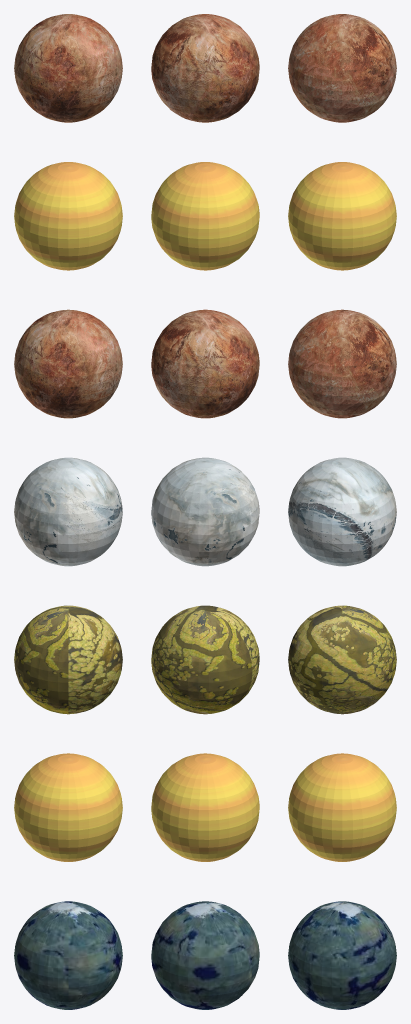
The model's file is alltogether.glb.
The picture shows the model from 3 angles, left to right: view 1: azimuth 90°, elevation 25°; view 2: azimuth 150°, elevation 25°; view 3: azimuth 270°, elevation 25°; orthographic projection.
Parts seen in each view (by area): view 1: Hoth, Dagobah, YavinIV, Bespin, Alderaan, Endor, tatooine; view 2: Dagobah, YavinIV, Hoth, Bespin, Alderaan, Endor, tatooine; view 3: Hoth, Dagobah, YavinIV, Bespin, Alderaan, Endor, tatooine.
Part boxes in pixels (x1,y1,x2,y2): Hoth: [14, 457, 122, 566]; Dagobah: [14, 605, 122, 714]; YavinIV: [14, 309, 122, 418]; Bespin: [14, 753, 122, 861]; Alderaan: [14, 162, 122, 270]; Endor: [14, 901, 122, 1009]; tatooine: [14, 14, 122, 122]; Dagobah: [151, 605, 259, 714]; YavinIV: [151, 309, 259, 418]; Hoth: [151, 457, 259, 566]; Bespin: [151, 753, 259, 861]; Alderaan: [151, 162, 259, 270]; Endor: [151, 901, 259, 1009]; tatooine: [151, 14, 259, 122]; Hoth: [288, 457, 396, 566]; Dagobah: [288, 605, 396, 714]; YavinIV: [288, 309, 396, 418]; Bespin: [288, 753, 396, 861]; Alderaan: [288, 162, 396, 270]; Endor: [288, 901, 396, 1009]; tatooine: [288, 14, 396, 122].
Size of the model in its own units: 2 by 20 by 2.
6 materials, 6 textured.
